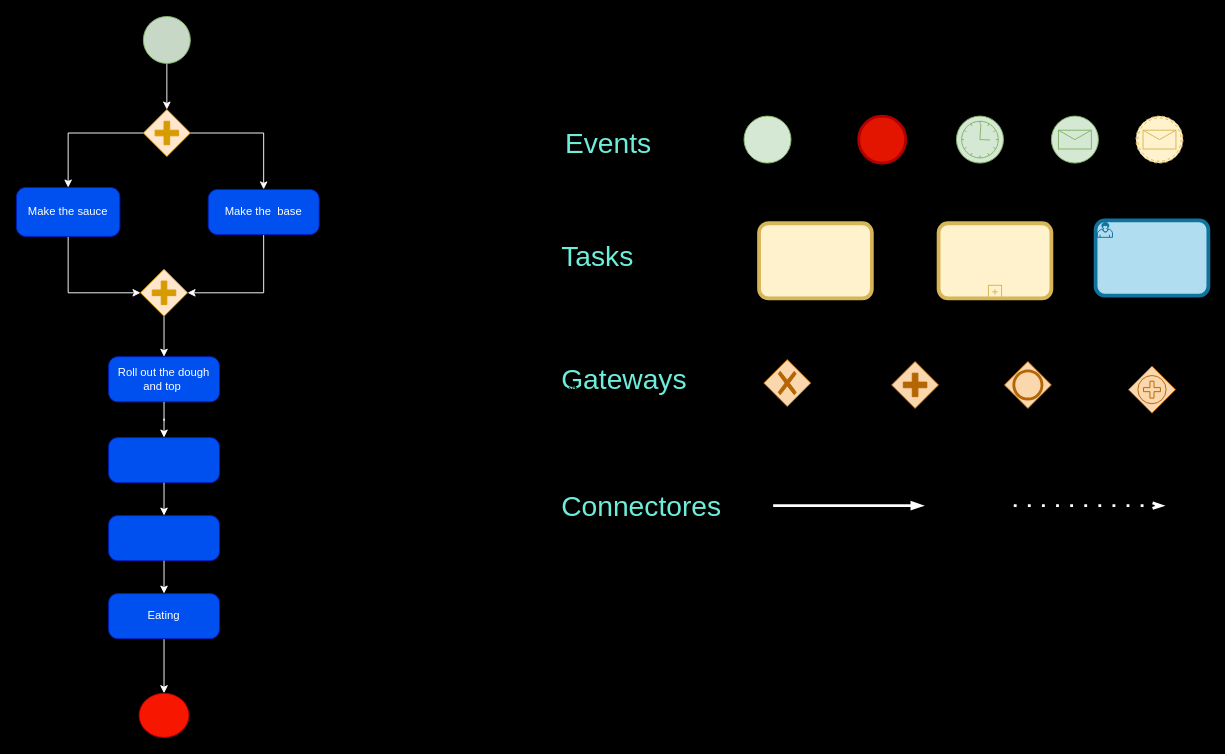
This 1225x754 diagram has some shape labels left out. The shapes that lost their labels are listed below. From the top down, each one's centre as x and y in pixels, then its label:
At pixel 163 460: "Bake".
At pixel 163 538: "Cut".
